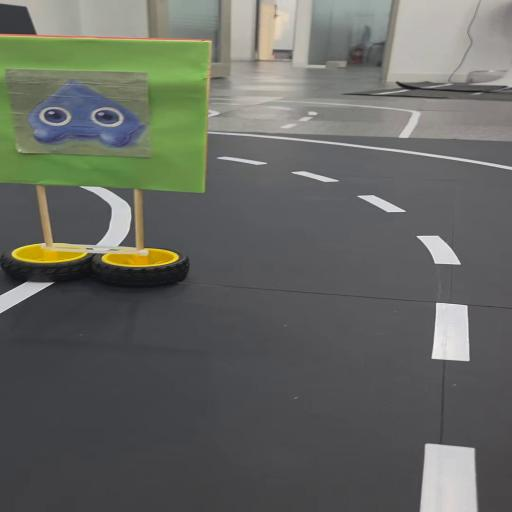Sign_B: (6, 27, 224, 298)
